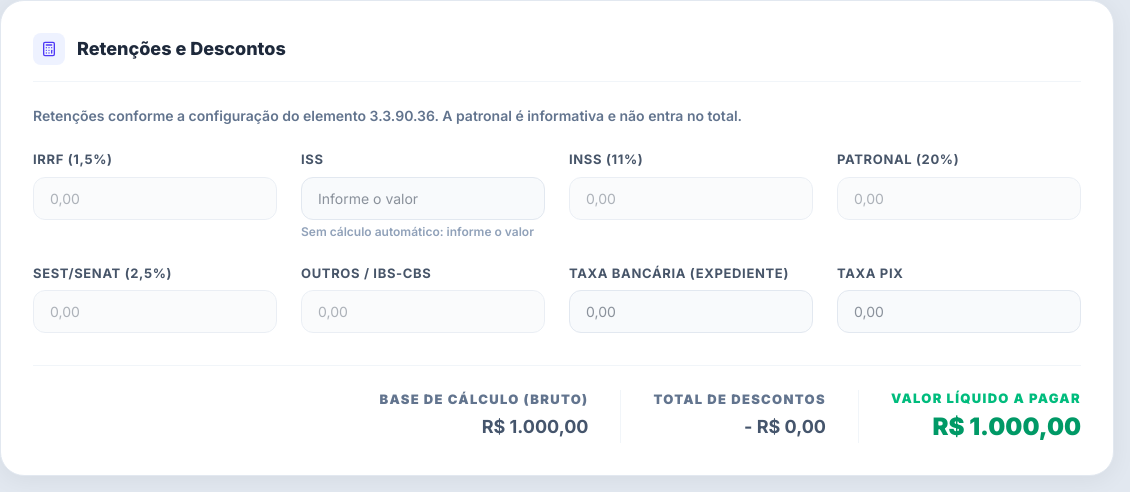
Test: OpTaxesSection — config e permissões › imposto não automático aplicável: editável por GESTOR e marcado como obrigatório
The width and height of the screenshot is (1130, 492).
Type "0" into the field labelled "ISS" at (423, 198), box [301, 177, 545, 220]
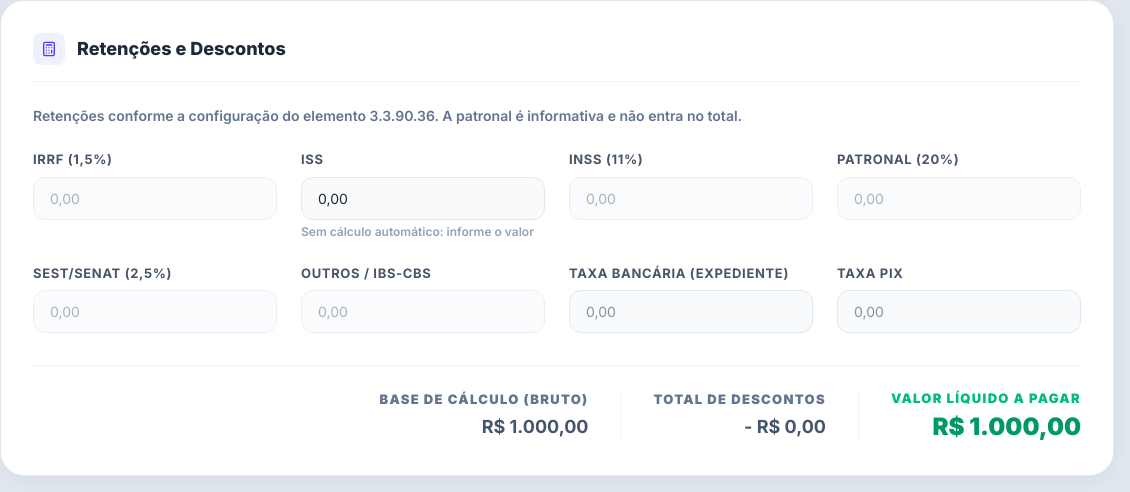
Now the field labelled "ISS" holds "0,00", box [301, 177, 545, 220]
